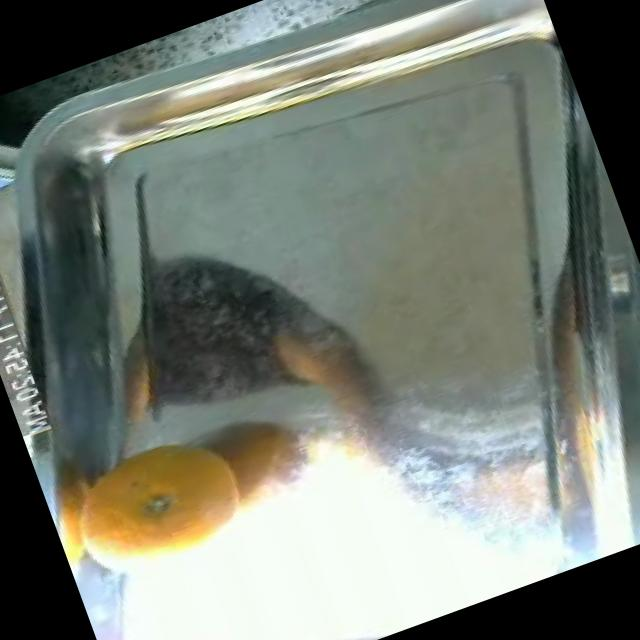Fruit: (32, 389, 290, 610)
